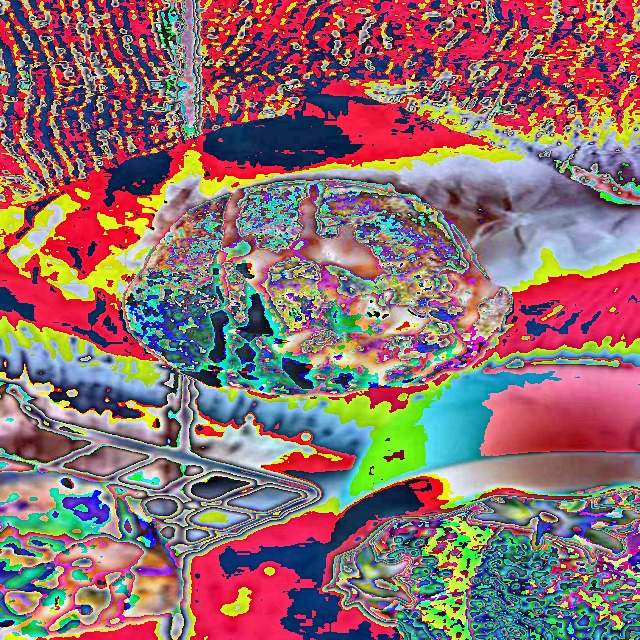background: (313, 149, 639, 639), (2, 165, 184, 635), (124, 182, 515, 400)
